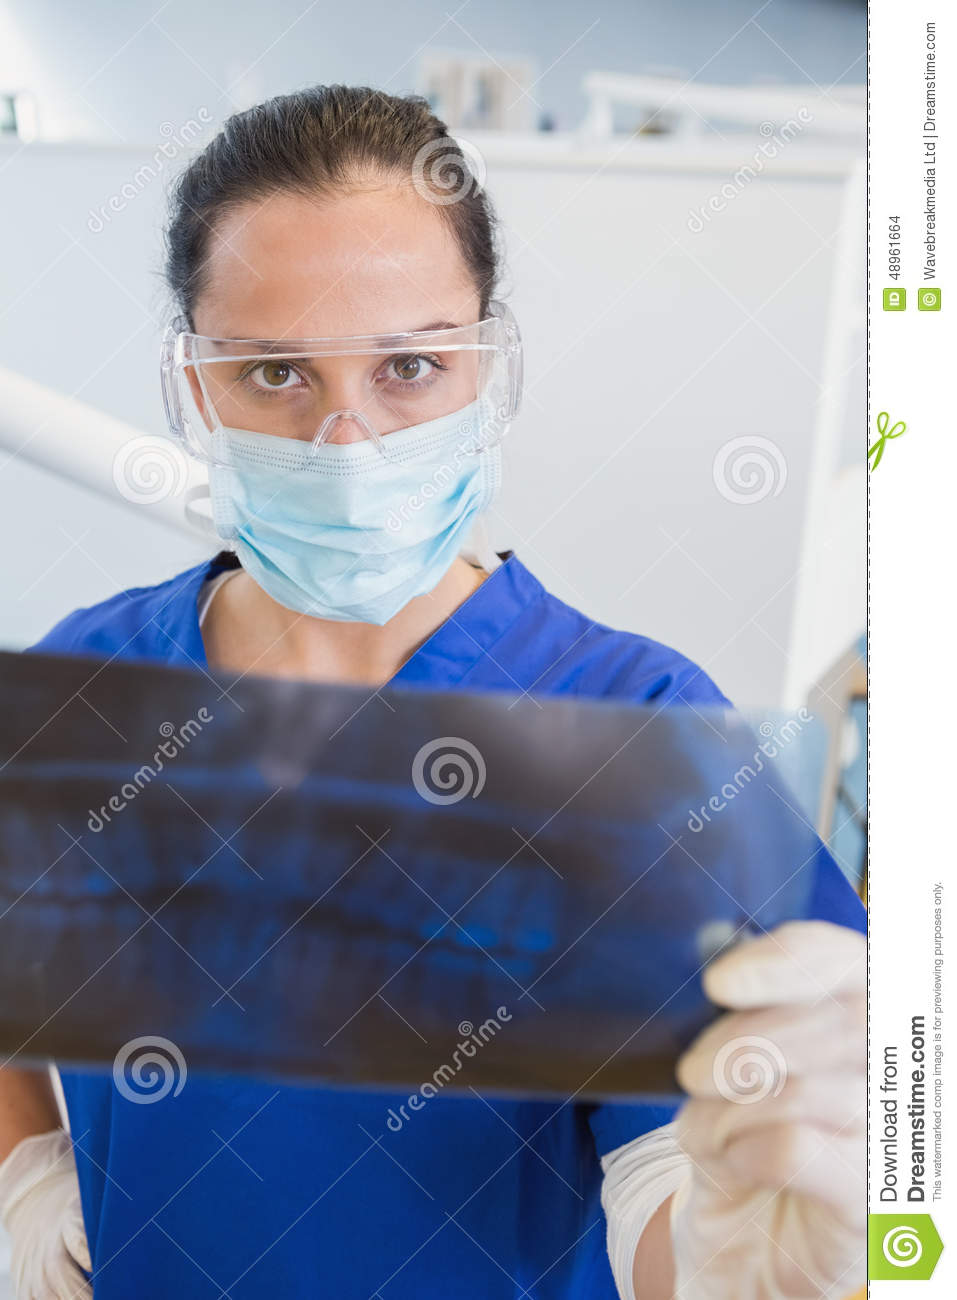mask: (186, 407, 506, 641)
